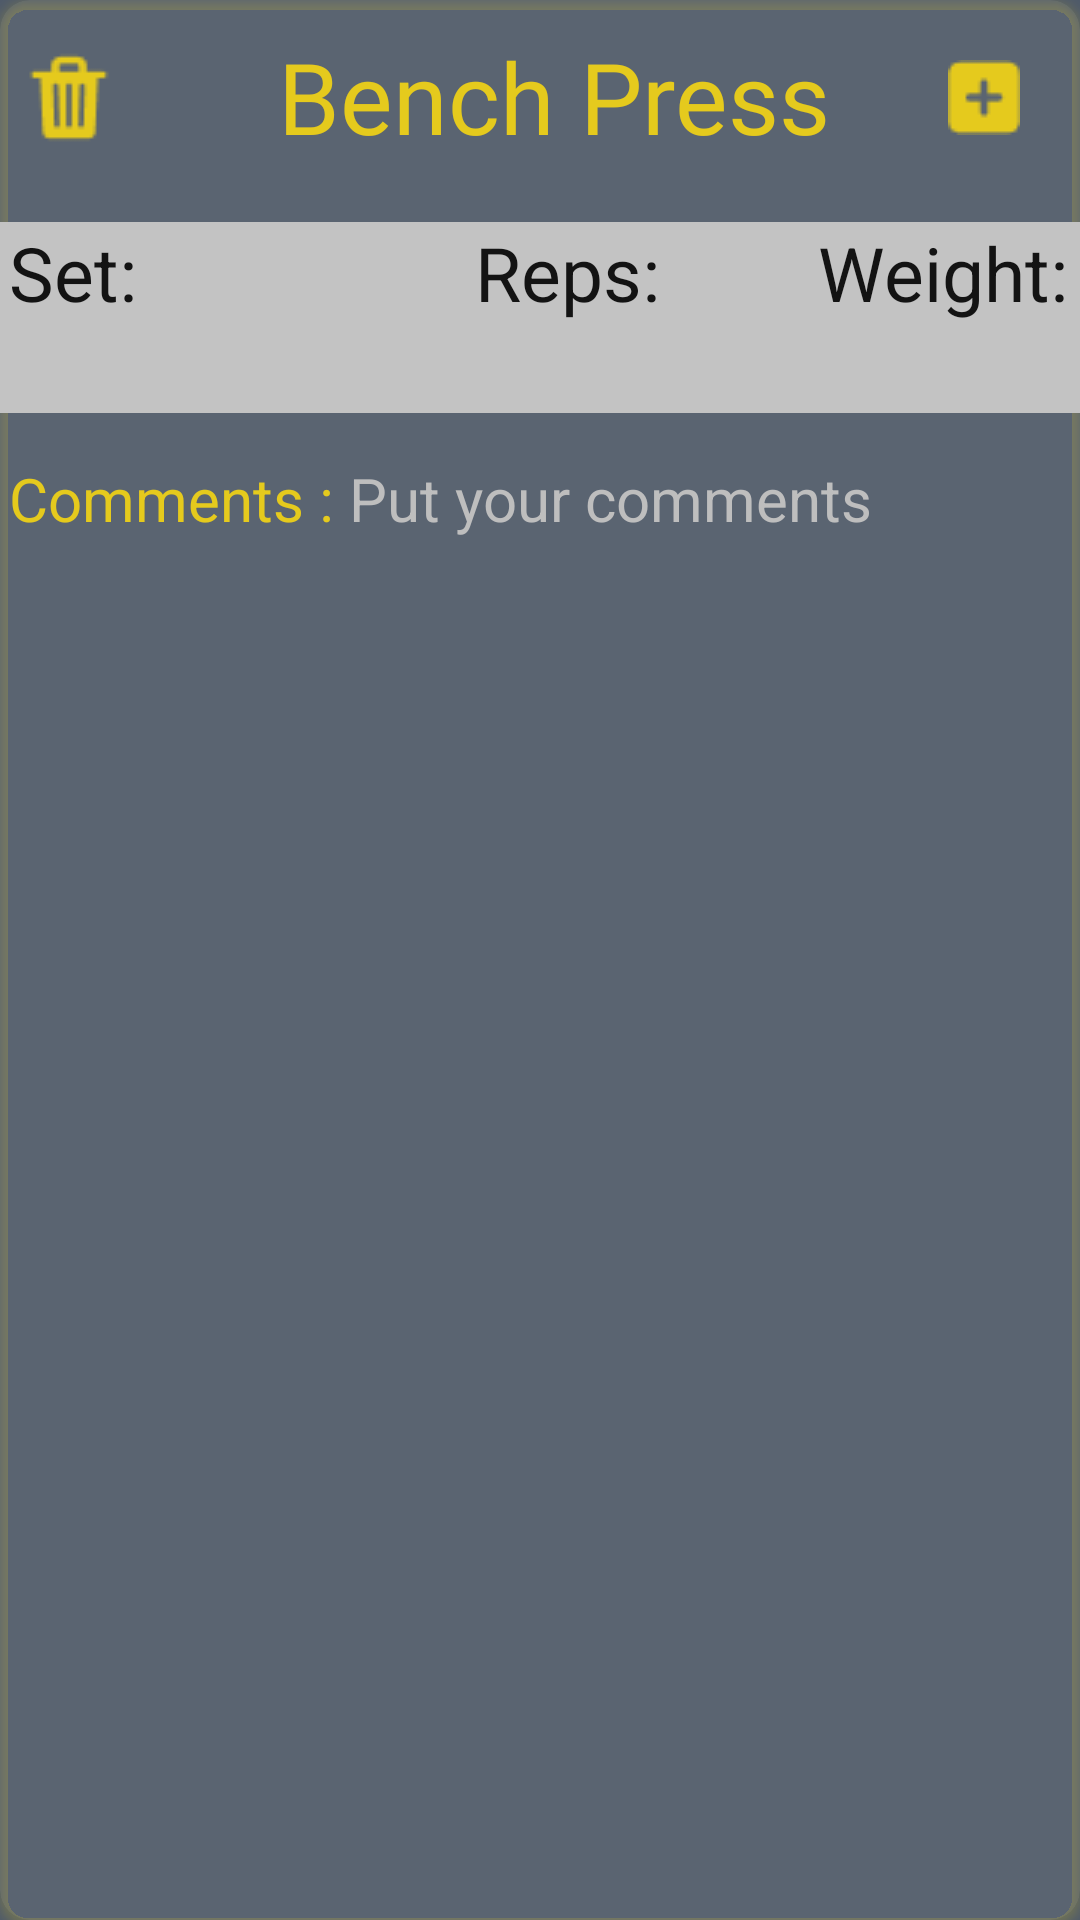

Named icons in this screenshot (1080px x 1920px) and their centers, (x=x, y=y):
add set: (x=984, y=97)
trash: (x=68, y=97)
